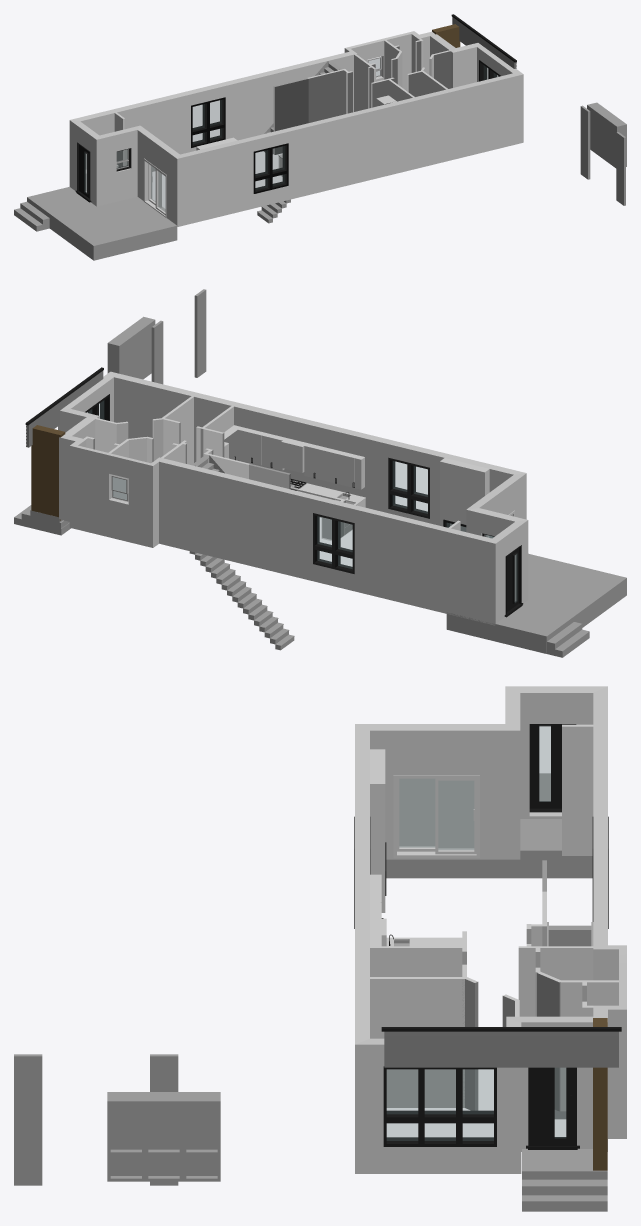
Rendered from eastridge-2main.gltf.
The picture shows the model from 3 angles, top to bottom: view 1: azimuth 30°, elevation 25°; view 2: azimuth 150°, elevation 25°; view 3: azimuth 270°, elevation 25°; orthographic projection. The views are drawn at different scales.
Visible parts, largest first — view 1: pCube250:PIV, pCube251, pCube38:PIV, pCube40:PIV, pCube113, pCube219, pCube221, pCube42:PIV, pCube222:PIV, pCube223:PIV, pCube56:PIV, pCube55:PIV (+9 smaller); view 2: pCube250:PIV, pCube251, pCube256:PIV, pCube107, pCube113, pCube221, pCube219, pCube223:PIV, pCube55:PIV, pCube222:PIV, pCube125, pCube53:PIV (+11 smaller); view 3: pCube250:PIV, pCube251, pCube113, pCube125, pCube53:PIV, main_window, pCube45:PIV, pCube55:PIV, pCube42:PIV, pCube106:PIV, pCube54:PIV, pCube242:PIV (+19 smaller).
Boxes of the visible parts, <box> form: pCube250:PIV: <box>69,31,523,226</box>; pCube251: <box>27,187,177,260</box>; pCube38:PIV: <box>273,78,308,154</box>; pCube40:PIV: <box>308,69,345,122</box>; pCube113: <box>587,102,626,168</box>; pCube219: <box>253,143,288,193</box>; pCube221: <box>191,97,225,147</box>; pCube42:PIV: <box>354,54,375,111</box>; pCube222:PIV: <box>255,146,284,189</box>; pCube223:PIV: <box>193,100,221,143</box>; pCube56:PIV: <box>580,105,590,179</box>; pCube55:PIV: <box>616,132,625,205</box>; pCube250:PIV: <box>58,371,528,625</box>; pCube251: <box>446,553,626,653</box>; pCube256:PIV: <box>440,458,489,537</box>; pCube107: <box>31,425,65,520</box>; pCube113: <box>107,316,155,379</box>; pCube221: <box>313,513,354,573</box>; pCube219: <box>388,457,429,518</box>; pCube223:PIV: <box>317,516,352,568</box>; pCube55:PIV: <box>194,289,206,377</box>; pCube222:PIV: <box>393,461,427,513</box>; pCube125: <box>26,371,103,447</box>; pCube53:PIV: <box>162,396,193,464</box>; pCube250:PIV: <box>355,686,626,1173</box>; pCube251: <box>386,773,592,878</box>; pCube113: <box>107,1092,220,1181</box>; pCube125: <box>384,1031,618,1067</box>; pCube53:PIV: <box>370,977,466,1107</box>; main_window: <box>383,1066,496,1146</box>; pCube45:PIV: <box>562,724,593,855</box>; pCube55:PIV: <box>14,1054,42,1185</box>; pCube42:PIV: <box>518,946,593,1016</box>; pCube106:PIV: <box>529,1067,575,1145</box>; pCube54:PIV: <box>370,946,466,976</box>; pCube242:PIV: <box>438,781,473,849</box>.
Bounding box in the file's own units: 16.17 × 4.67 × 9.42.
